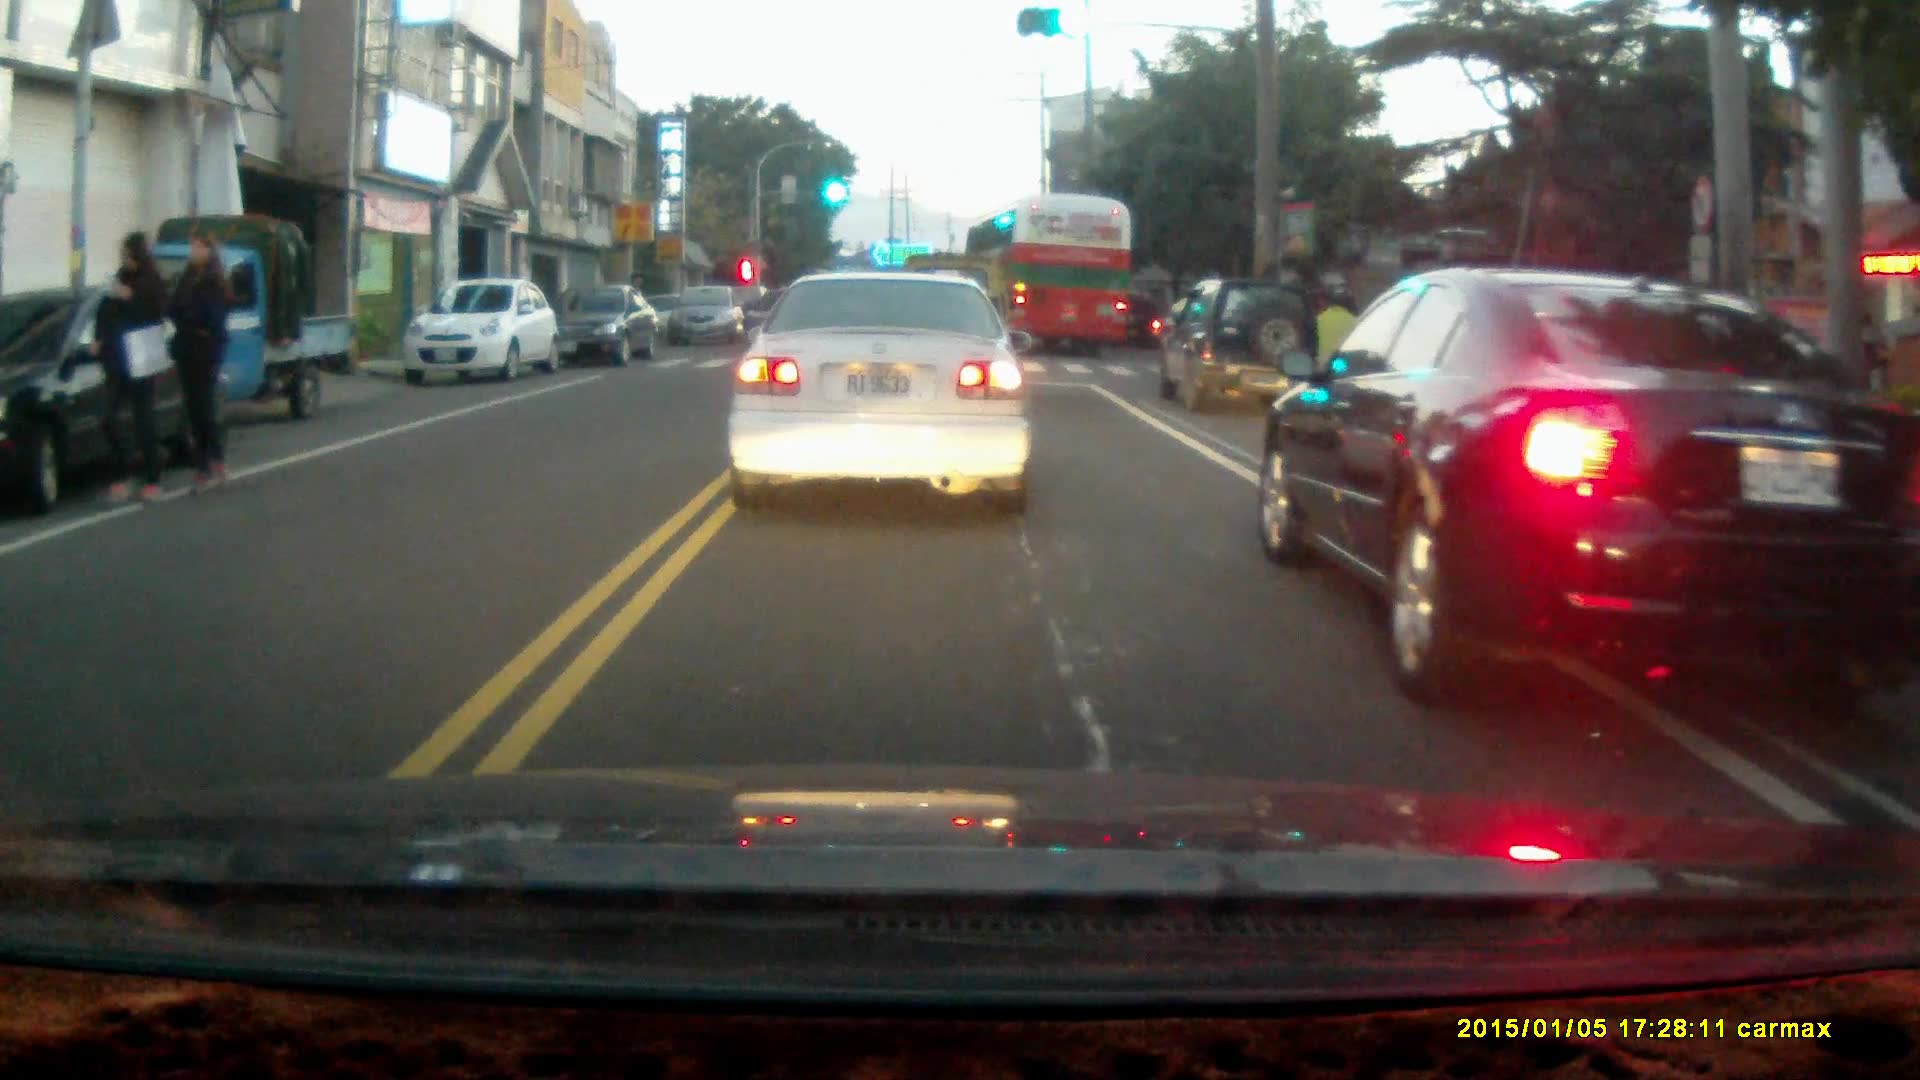pedestrian: (88, 232, 173, 505), (167, 230, 236, 499)
rider: (1312, 285, 1371, 411), (1117, 292, 1164, 352)
vehicle: (1258, 270, 1920, 697), (725, 266, 1033, 518), (1, 282, 236, 512), (106, 213, 357, 422), (963, 196, 1132, 359), (1160, 276, 1323, 415), (404, 279, 559, 385), (550, 279, 664, 369), (665, 286, 749, 351)
